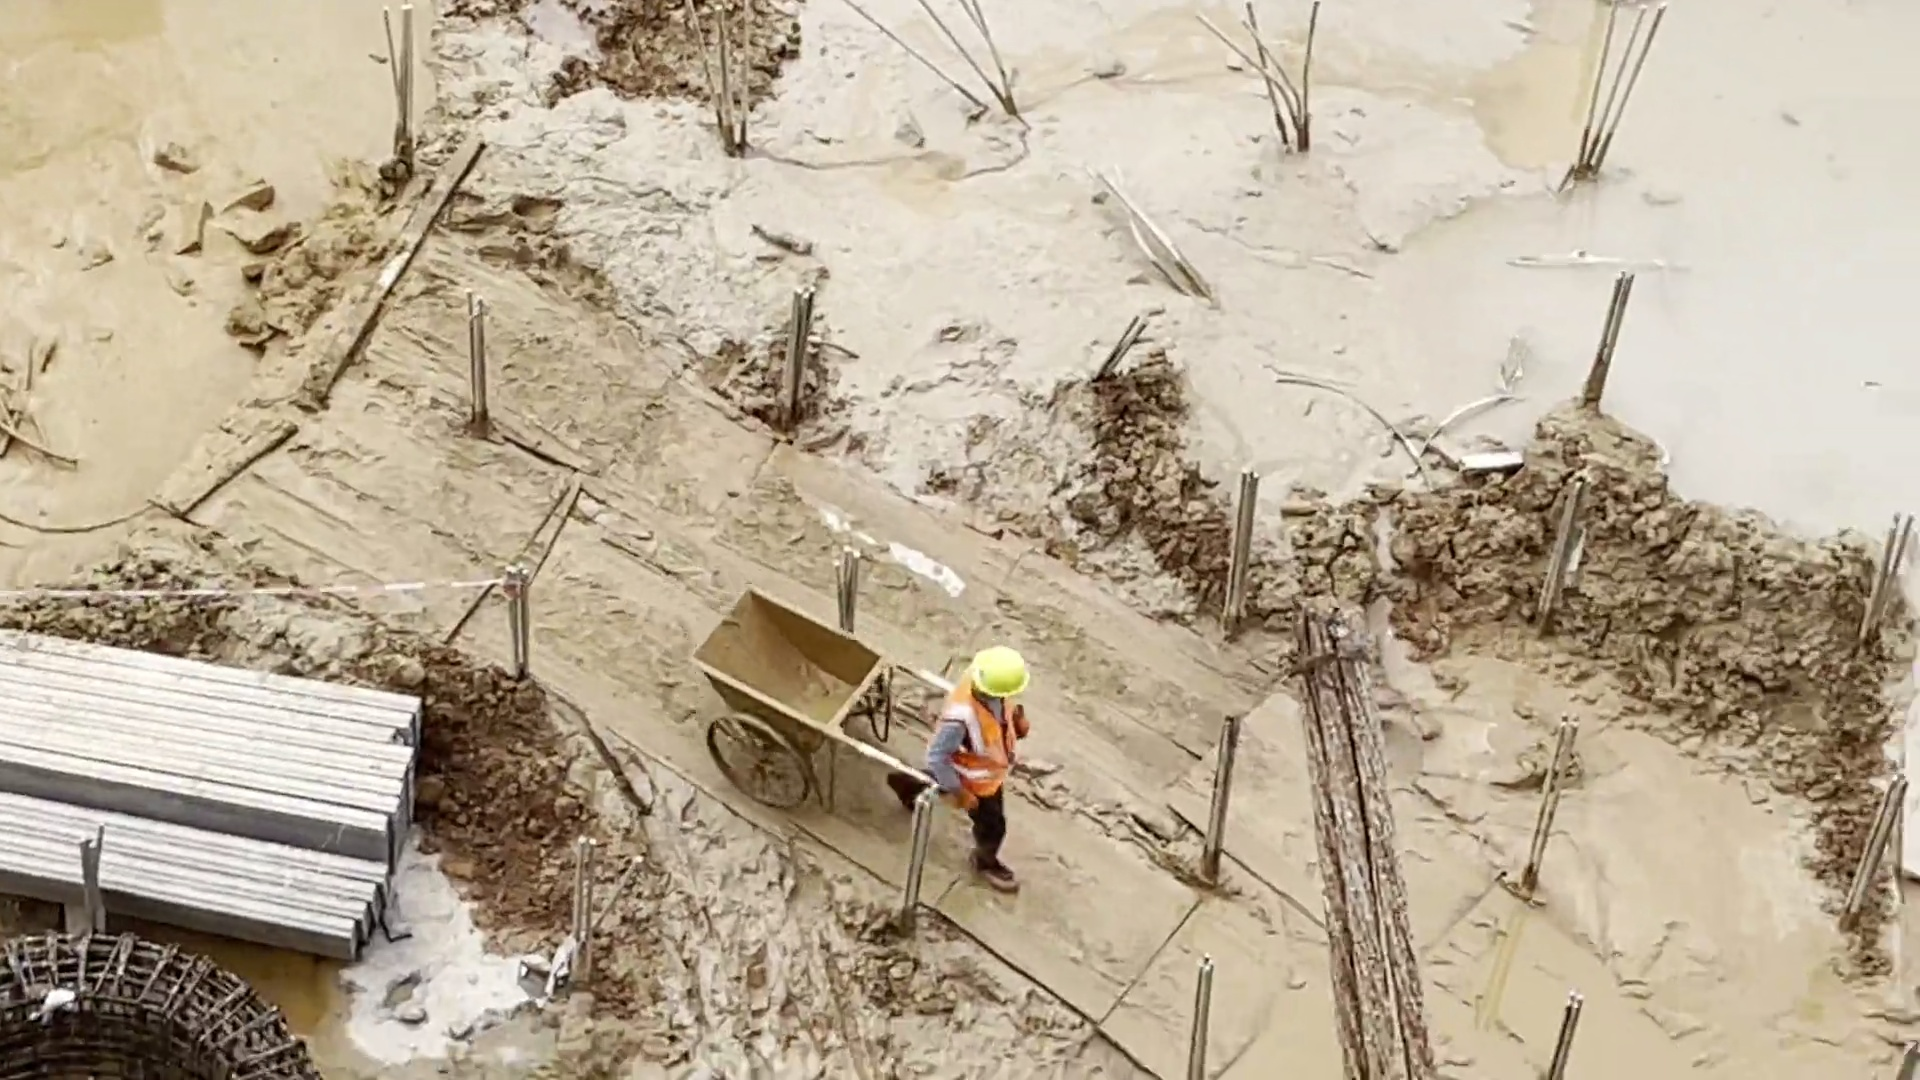handcart: (690, 586, 937, 816)
helmet: (968, 645, 1029, 695)
person: (887, 646, 1043, 895)
vest: (948, 689, 1020, 792)
